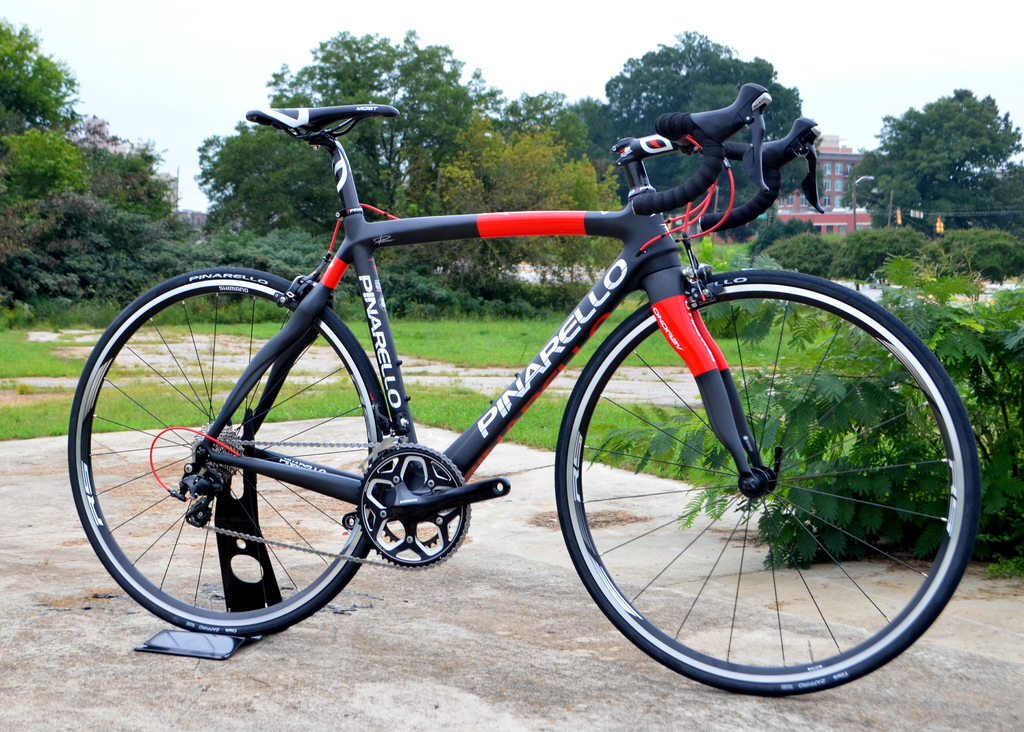Bike_away: (70, 80, 973, 691)
